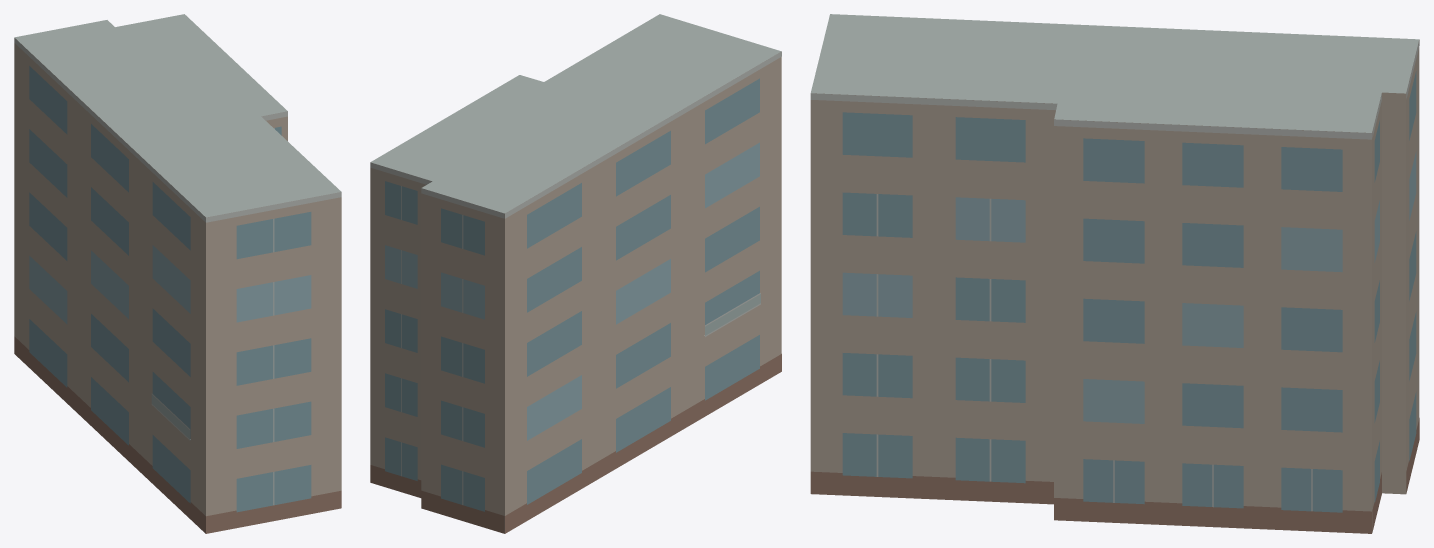
Rendered from survey-upis-32565050.glb.
3 renders of one model, left to right at view 1: azimuth 30°, elevation 25°; view 2: azimuth 150°, elevation 25°; view 3: azimuth 270°, elevation 25°, orthographic. The views are drawn at different scales.
Parts seen in each view (by area): view 1: survey-upis-32565050.tmp; view 2: survey-upis-32565050.tmp; view 3: survey-upis-32565050.tmp.
Part boxes in pixels (x1,y1,x2,y2): survey-upis-32565050.tmp: (14,14,341,533); survey-upis-32565050.tmp: (370,14,781,533); survey-upis-32565050.tmp: (810,14,1419,533).
Bounding box in the file's own units: 9.4 × 14.75 × 20.31.
